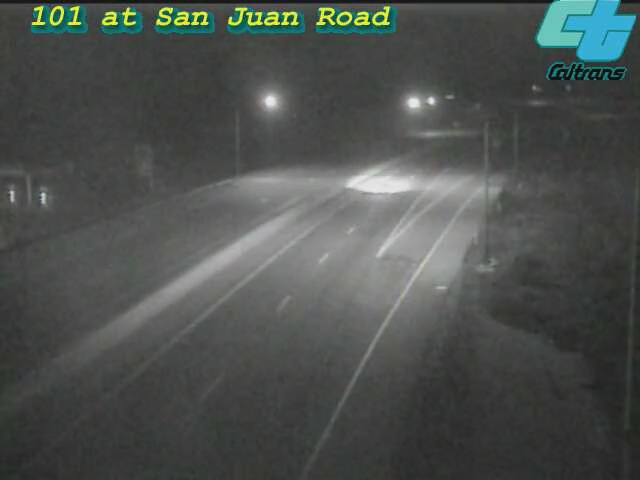vehicle: (332, 147, 412, 227)
